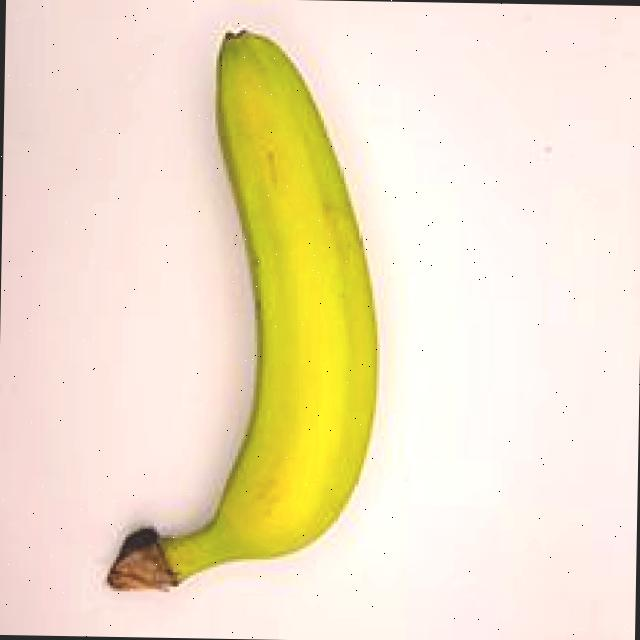Unripe: (101, 14, 412, 614)
